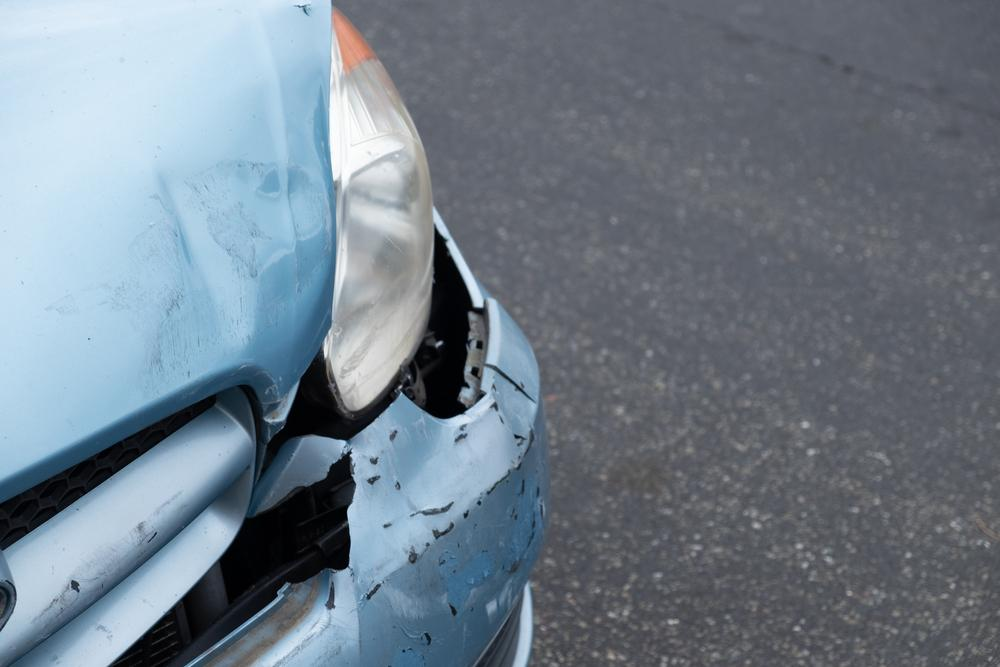crack: (254, 447, 356, 588), (485, 363, 538, 403)
dent: (145, 164, 336, 390)
scratch: (355, 367, 547, 644)
